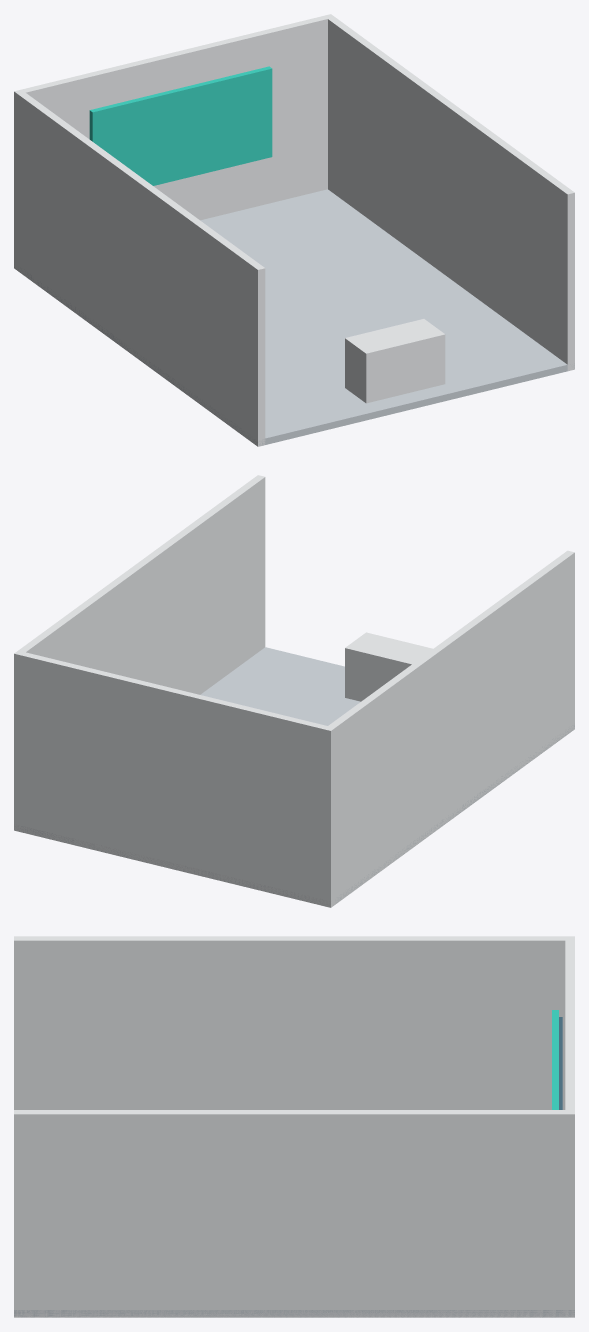
3 views of the same model, one above another, from view 1: azimuth 30°, elevation 25°; view 2: azimuth 150°, elevation 25°; view 3: azimuth 270°, elevation 25° (orthographic). The views are drawn at different scales.
Visible parts, largest first — view 1: Exhibition Booth Concept; view 2: Exhibition Booth Concept; view 3: Exhibition Booth Concept.
Boxes of the visible parts, x1,y1,x2,y2 form: Exhibition Booth Concept: [14, 14, 574, 446]; Exhibition Booth Concept: [14, 475, 574, 907]; Exhibition Booth Concept: [14, 936, 574, 1317].
Bounding box in the file's own units: 6 × 3.2 × 8.
